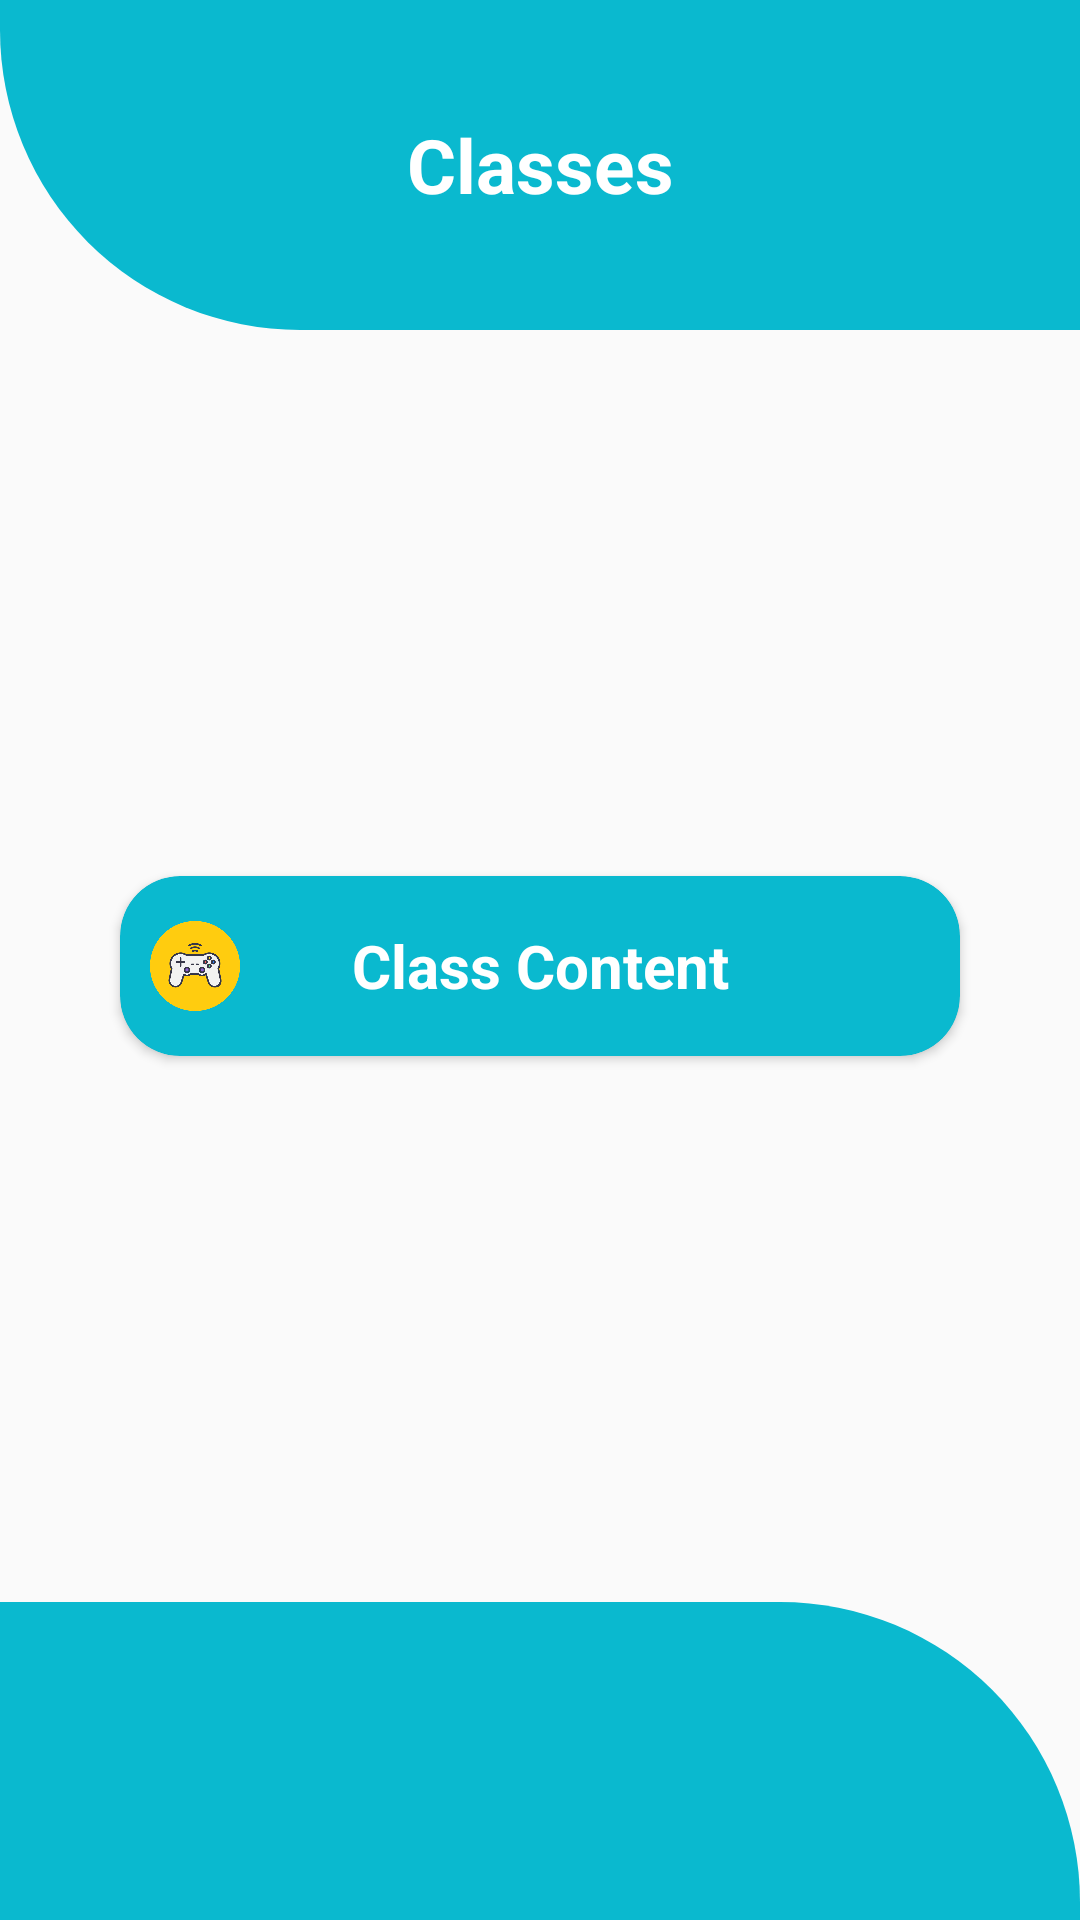

Locate icon controls on the screen. Image size 1080*1920, boxes as [left=x1, top=y1, right=x2, bottom=y2].
newgameicon: [left=150, top=921, right=240, bottom=1011]
